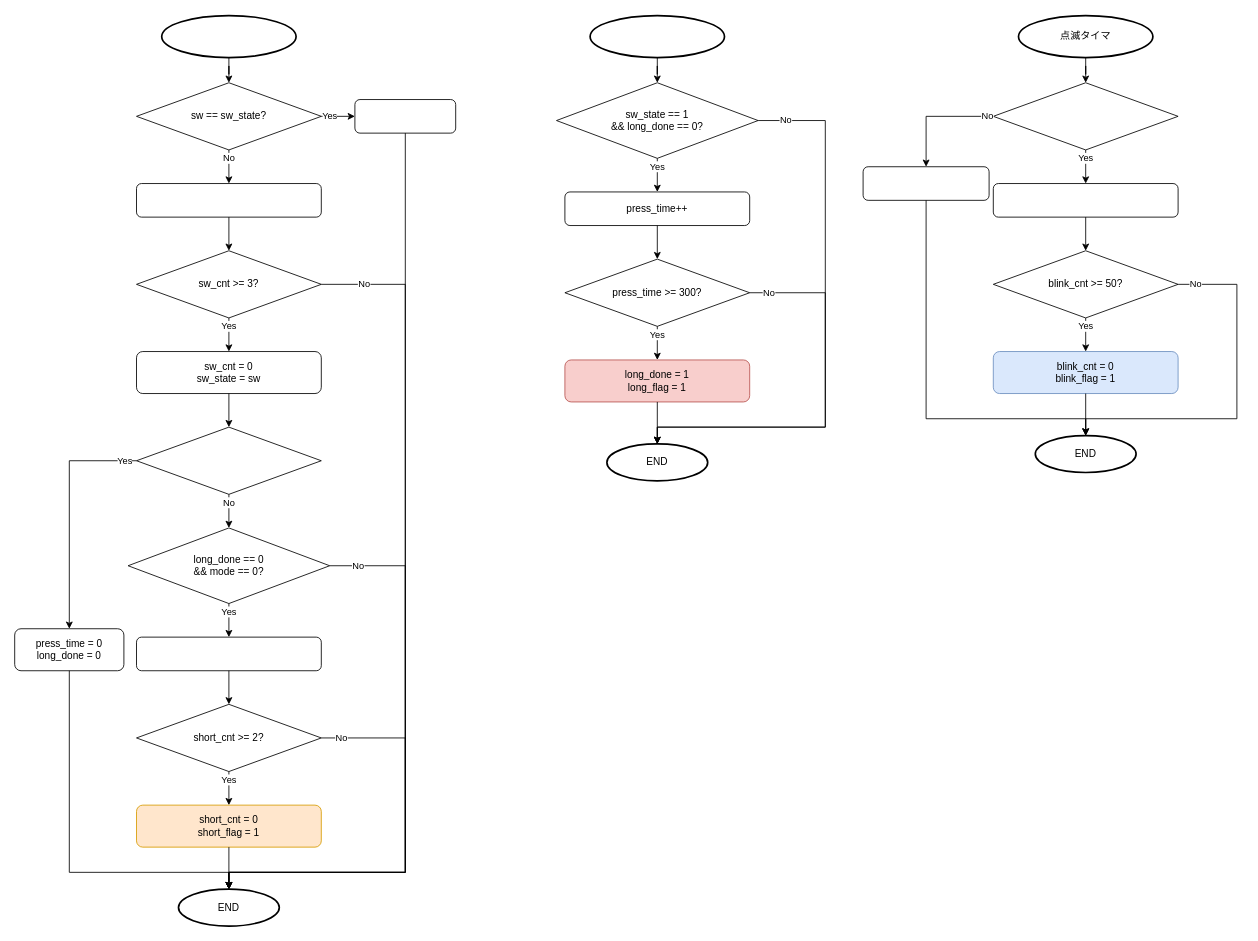
Image size: 1258x941. Some labels were removed from this diagram. Each missing label, with the box of its shape:
blink_cnt = 0: (862, 166, 989, 200)
blink_cnt++: (992, 183, 1178, 217)
mode == 1?: (992, 82, 1178, 150)
short_cnt++: (136, 636, 321, 671)
sw_cnt = 0: (354, 99, 456, 133)
sw_cnt++: (136, 183, 321, 217)
sw_state == 1?: (136, 426, 321, 494)
スイッチ判定: (160, 14, 297, 58)
長押し判定: (589, 14, 725, 58)
